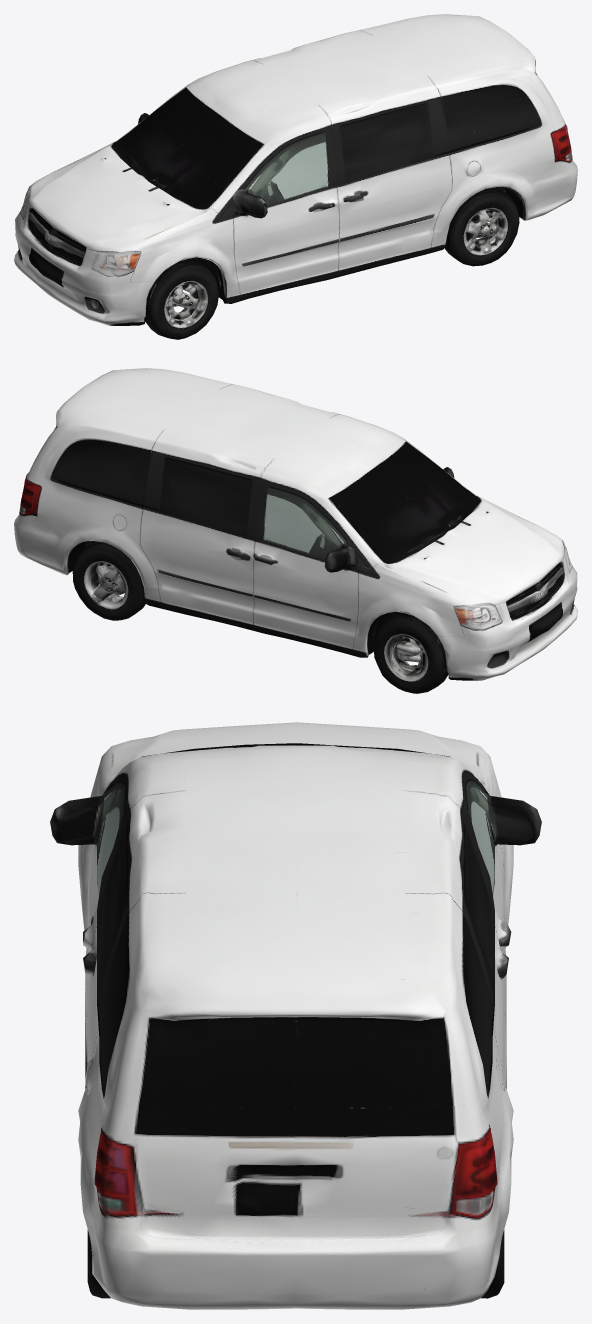
The model's file is White_Minivan_0621003814_texture.glb.
3 views of the same model, one above another, from view 1: azimuth 30°, elevation 25°; view 2: azimuth 150°, elevation 25°; view 3: azimuth 270°, elevation 25° (orthographic). The views are drawn at different scales.
Parts seen in each view (by area): view 1: Mesh_0.002; view 2: Mesh_0.002; view 3: Mesh_0.002.
Part boxes in pixels (x1=…): Mesh_0.002: x1=14, y1=14, x2=577, y2=339; Mesh_0.002: x1=14, y1=368, x2=577, y2=693; Mesh_0.002: x1=50, y1=722, x2=541, y2=1309.
Size of the model in its own units: 4.72 by 1.68 by 2.03.
1 material, 1 textured.
